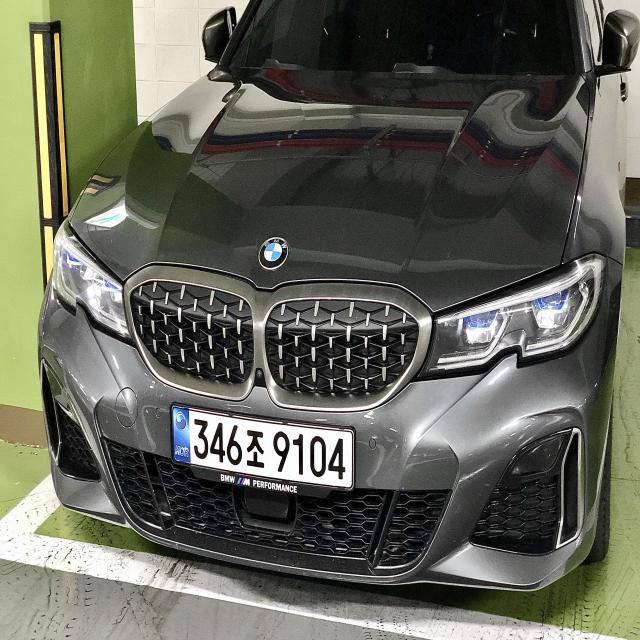car: (34, 0, 630, 606)
illegal_plate: (172, 402, 356, 501)
